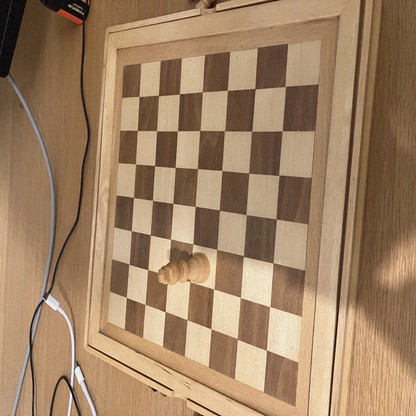king_white: (159, 254, 210, 284)
